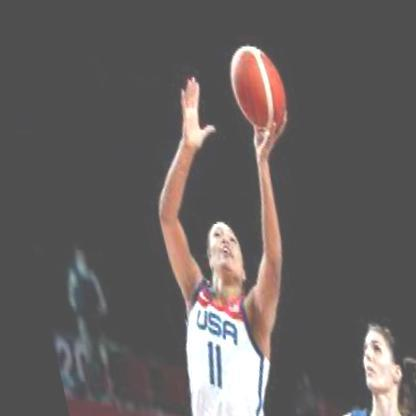basketball: (221, 33, 290, 130)
